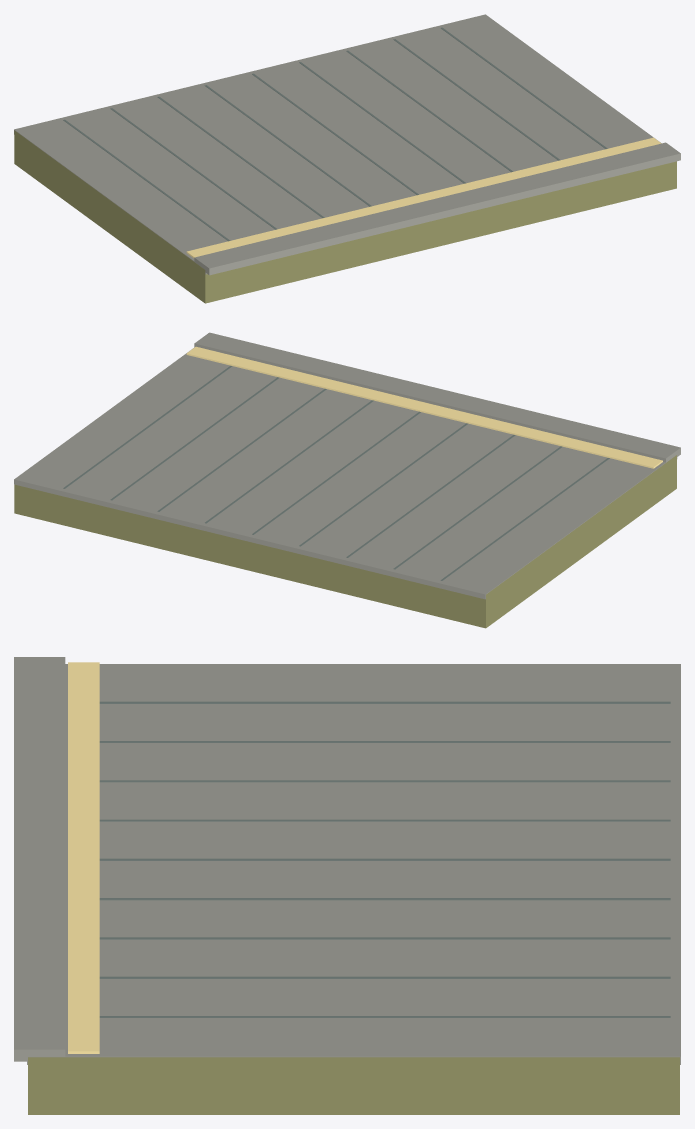
Rendered from SM_KitAnden_F7_v4_LOD0.fbx.
The picture shows the model from 3 angles, top to bottom: view 1: azimuth 30°, elevation 25°; view 2: azimuth 150°, elevation 25°; view 3: azimuth 270°, elevation 25°; orthographic projection. The views are drawn at different scales.
Visible parts, largest first — view 1: SM_kit_anden_v4_LOD0; view 2: SM_kit_anden_v4_LOD0; view 3: SM_kit_anden_v4_LOD0.
Part boxes in pixels (x1,y1,x2,y2): SM_kit_anden_v4_LOD0: (14, 14, 680, 303); SM_kit_anden_v4_LOD0: (14, 332, 680, 628); SM_kit_anden_v4_LOD0: (14, 657, 680, 1114).
Bounding box in the file's own units: 9.98 × 0.77 × 7.16.
